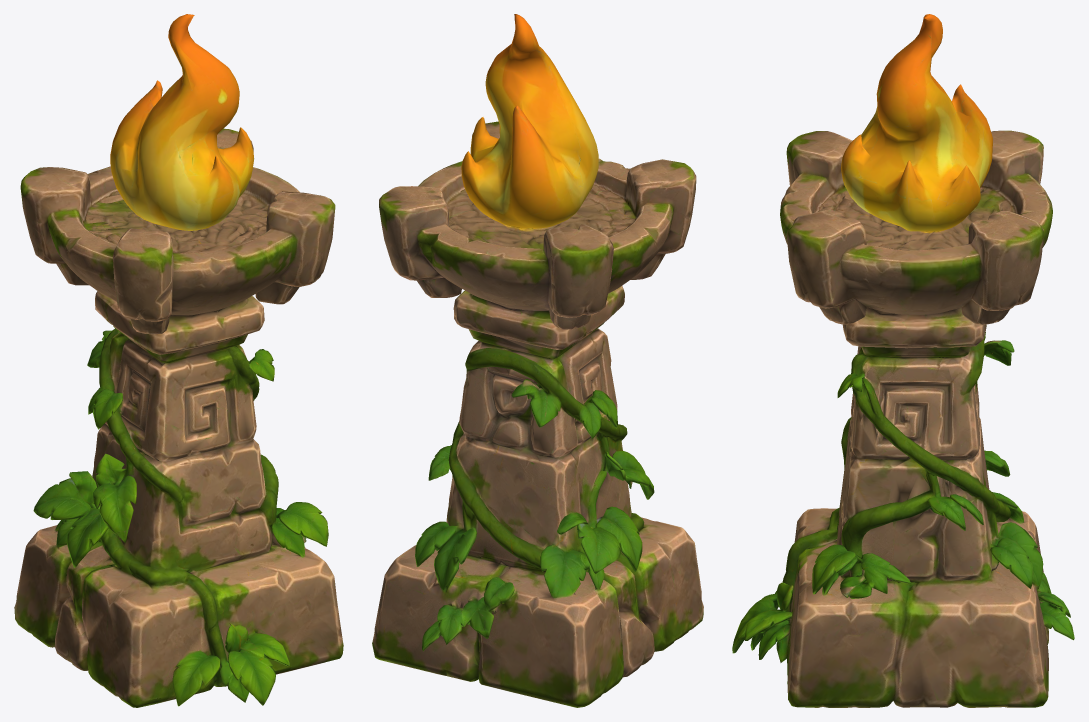
Rendered from jungle_temple_tourch.rt.glb.
The picture shows the model from 3 angles, left to right: view 1: azimuth 30°, elevation 25°; view 2: azimuth 150°, elevation 25°; view 3: azimuth 270°, elevation 25°; orthographic projection. The views are drawn at different scales.
Size of the model in its own units: 0.7358 by 1.91 by 0.9112.
1 material, 1 textured.
